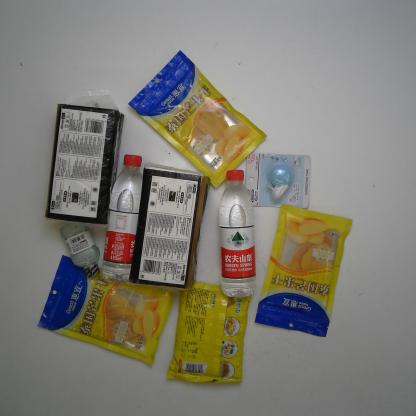Dried Fruit: (128, 50, 266, 188), (36, 256, 176, 364), (253, 204, 354, 338)
Drink: (102, 154, 149, 285), (217, 167, 258, 301)
Instant Noodles: (166, 281, 250, 385)
Personal Hygiene: (61, 219, 99, 278)
Stationery: (241, 151, 313, 210)
Tissue: (128, 161, 211, 291), (43, 102, 125, 225)
